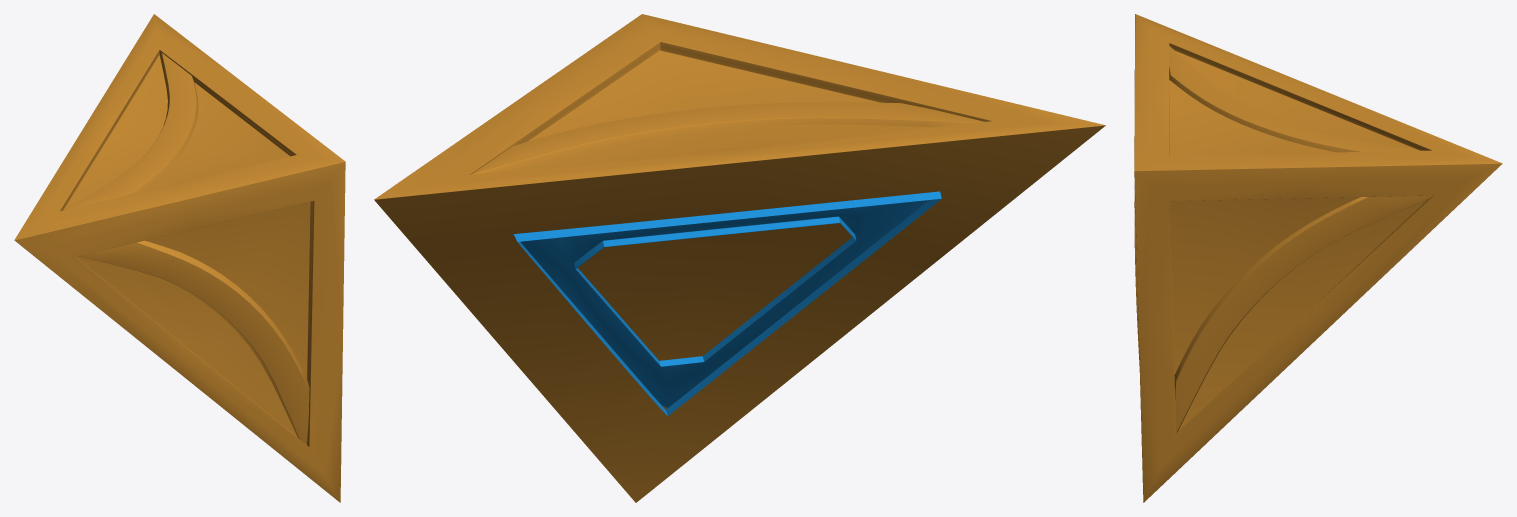
The model's file is esquina_7.obj.
3 renders of one model, left to right at view 1: azimuth 30°, elevation 25°; view 2: azimuth 150°, elevation 25°; view 3: azimuth 270°, elevation 25°, orthographic. The views are drawn at different scales.
Parts seen in each view (by area): view 1: esquina_7; view 2: esquina_7; view 3: esquina_7.
Boxes of the visible parts, box(x1,y1,x2,y2) form: esquina_7: box(14, 14, 345, 502); esquina_7: box(374, 14, 1105, 502); esquina_7: box(1134, 14, 1502, 502).
Size of the model in its own units: 5.12 by 5.21 by 5.13.
